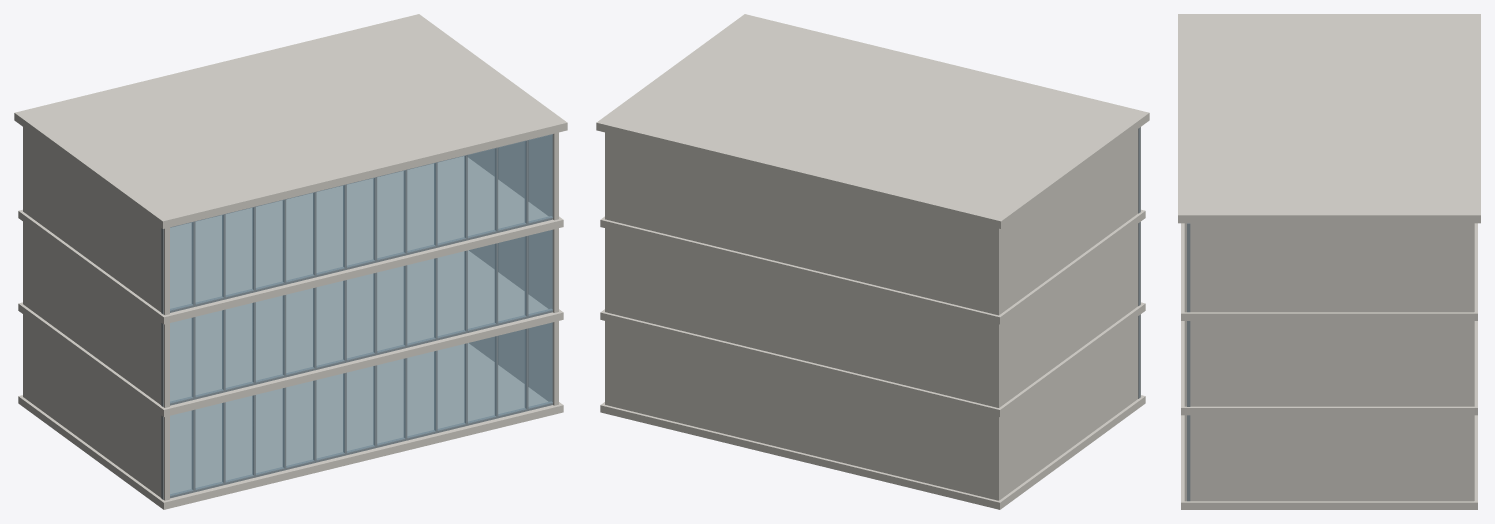
Rendered from pavilion-demo.glb.
3 views of the same model, side by side, from view 1: azimuth 30°, elevation 25°; view 2: azimuth 150°, elevation 25°; view 3: azimuth 270°, elevation 25° (orthographic).
Visible parts, largest first — view 1: ROOF-SLAB, F03-SLAB, F02-SLAB, F01-SLAB, F03-WALL-WEST, F01-WALL-WEST, F02-WALL-WEST, F03-WALL-EAST, F01-WALL-EAST, F02-WALL-EAST, F03-GLASS-04, F03-GLASS-11 (+40 smaller); view 2: ROOF-SLAB, F03-WALL-NORTH, F02-WALL-NORTH, F01-WALL-NORTH, F03-WALL-WEST, F01-WALL-WEST, F02-WALL-WEST, F03-SLAB, F02-SLAB, F01-SLAB; view 3: ROOF-SLAB, F03-WALL-EAST, F01-WALL-EAST, F02-WALL-EAST, F02-SLAB, F03-SLAB, F01-SLAB, F03-MULLION-14, F01-MULLION-14.
Part boxes in pixels (x1,y1,x2,y2): ROOF-SLAB: (14,14,567,228); F03-SLAB: (18,156,563,324); F02-SLAB: (18,250,563,416); F01-SLAB: (18,343,563,509); F03-WALL-WEST: (23,127,169,315); F01-WALL-WEST: (23,314,169,500); F02-WALL-WEST: (23,222,169,407); F03-WALL-EAST: (468,132,558,220); F01-WALL-EAST: (469,321,558,405); F02-WALL-EAST: (469,228,558,312); F03-GLASS-04: (255,200,284,289); F03-GLASS-11: (467,148,496,238); ROOF-SLAB: (596,14,1149,228); F03-WALL-NORTH: (605,132,998,315); F02-WALL-NORTH: (605,228,998,407); F01-WALL-NORTH: (605,321,998,500); F03-WALL-WEST: (998,127,1140,314); F01-WALL-WEST: (998,314,1140,500); F02-WALL-WEST: (998,222,1140,407); F03-SLAB: (600,209,1145,324); F02-SLAB: (600,302,1145,416); F01-SLAB: (600,395,1145,509); ROOF-SLAB: (1178,14,1480,223); F03-WALL-EAST: (1184,223,1474,312); F01-WALL-EAST: (1184,415,1474,501); F02-WALL-EAST: (1184,321,1474,406); F02-SLAB: (1181,321,1477,415); F03-SLAB: (1181,223,1477,320); F01-SLAB: (1181,415,1477,509); F03-MULLION-14: (1187,223,1190,312); F01-MULLION-14: (1187,415,1190,501).
Size of the model in its own units: 16.45 by 11.27 by 10.45.
